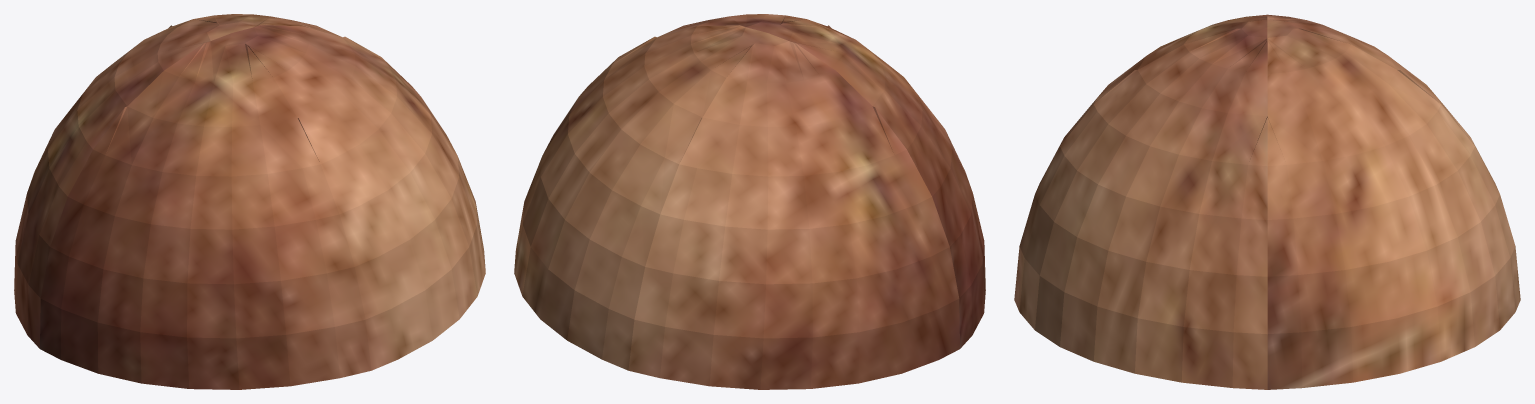
File: COCONUT.fbx
3 views of the same model, side by side, from view 1: azimuth 30°, elevation 25°; view 2: azimuth 150°, elevation 25°; view 3: azimuth 270°, elevation 25° (orthographic). The views are drawn at different scales.
Visible parts, largest first — view 1: COCONUT; view 2: COCONUT; view 3: COCONUT.
Part boxes in pixels (bbox=[...]): COCONUT: bbox=[14, 14, 485, 389]; COCONUT: bbox=[514, 14, 985, 389]; COCONUT: bbox=[1014, 14, 1520, 389].
Size of the model in its own units: 27.69 by 17.02 by 27.75.
